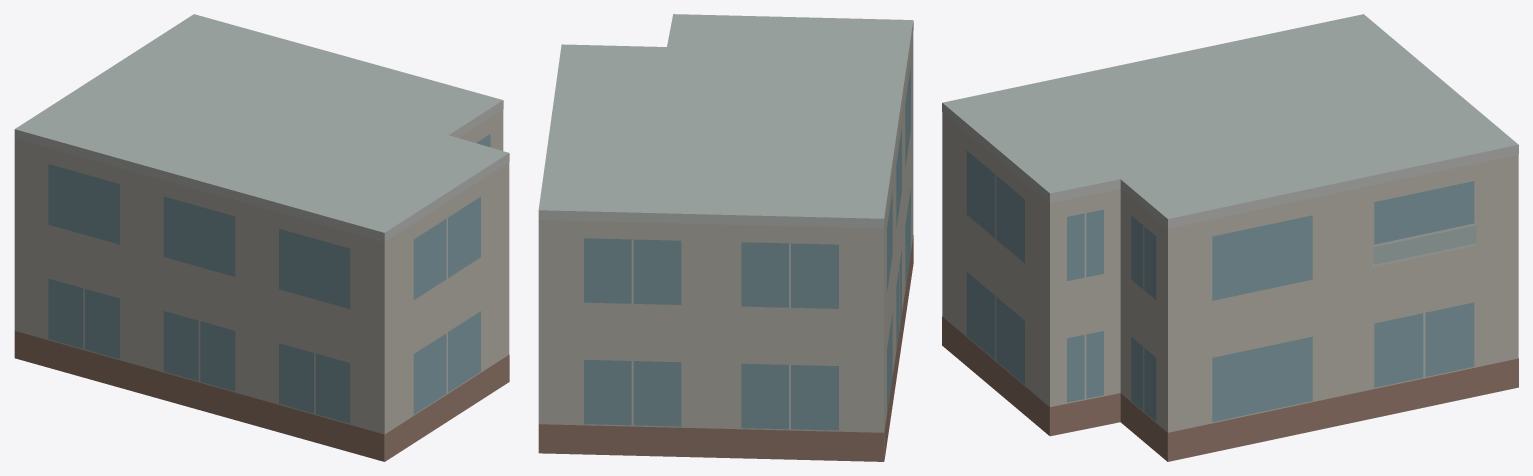
The model's file is survey-upis-32719295.glb.
The picture shows the model from 3 angles, left to right: view 1: azimuth 30°, elevation 25°; view 2: azimuth 150°, elevation 25°; view 3: azimuth 270°, elevation 25°; orthographic projection. The views are drawn at different scales.
Visible parts, largest first — view 1: survey-upis-32719295.tmp; view 2: survey-upis-32719295.tmp; view 3: survey-upis-32719295.tmp.
Part boxes in pixels (<box>): survey-upis-32719295.tmp: <box>14,14,509,461</box>; survey-upis-32719295.tmp: <box>538,14,913,461</box>; survey-upis-32719295.tmp: <box>942,14,1518,461</box>.
Bounding box in the file's own units: 11.06 × 6.1 × 13.14.
